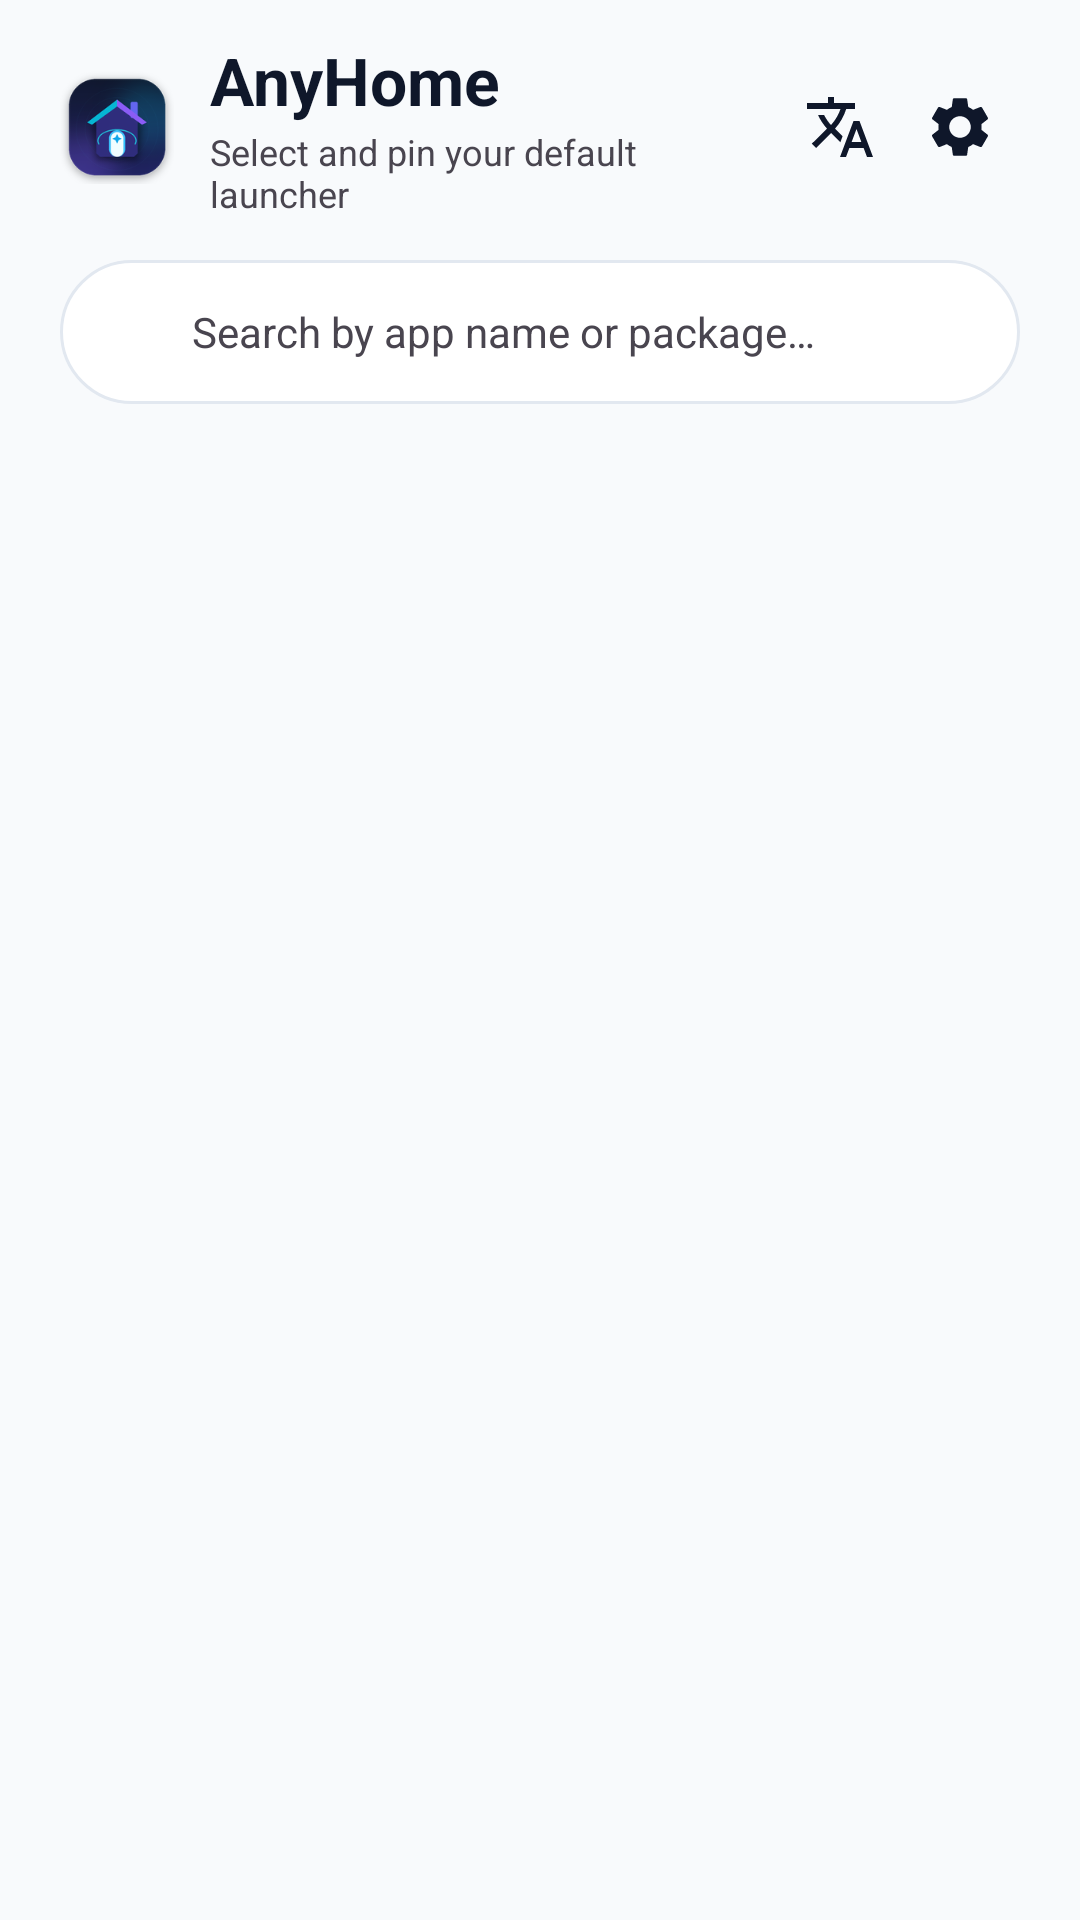

Locate icon controls on the screen. Image size 1080x1920, boxes as (x1, y1, x2, y2).
Switch language: (807, 97, 873, 157)
System Settings: (932, 98, 988, 156)
